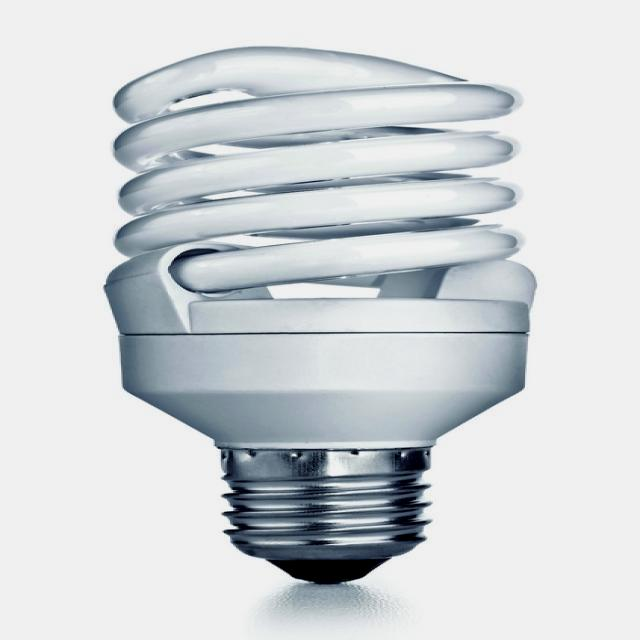lampu: (103, 50, 535, 583), (105, 47, 534, 582)
